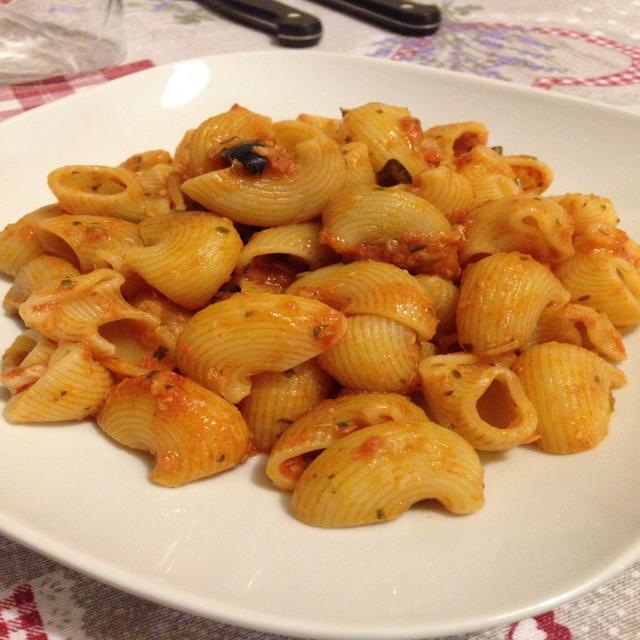Pasta al ragu: (7, 65, 639, 557)
